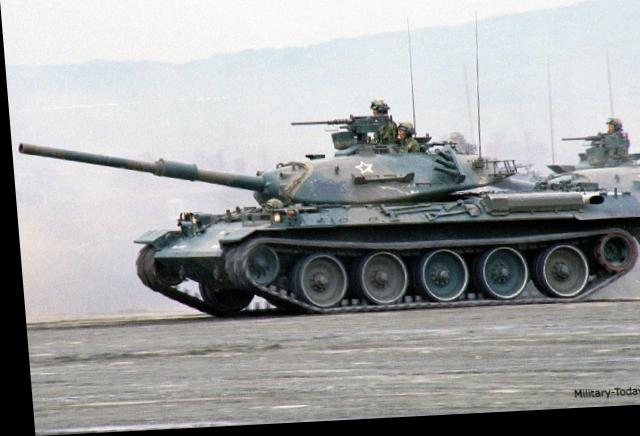other: (366, 100, 394, 143), (393, 122, 414, 155), (446, 136, 467, 156), (603, 123, 619, 137), (637, 145, 640, 166)
tank: (131, 130, 640, 321)
